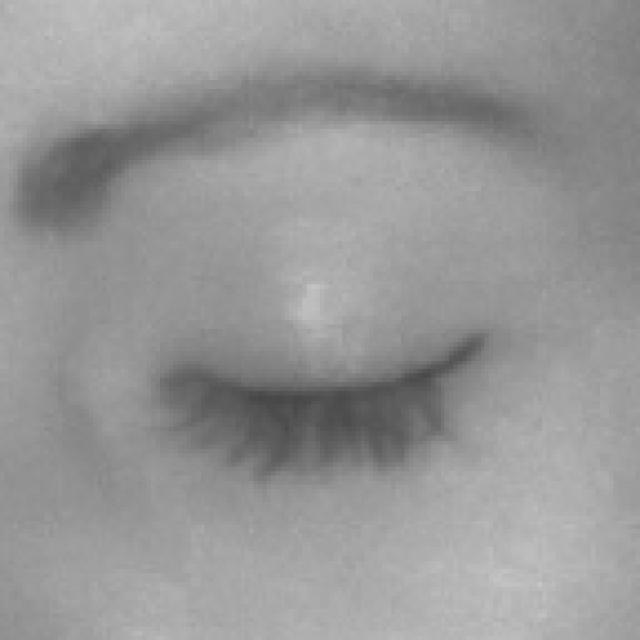close: (0, 52, 640, 592)
